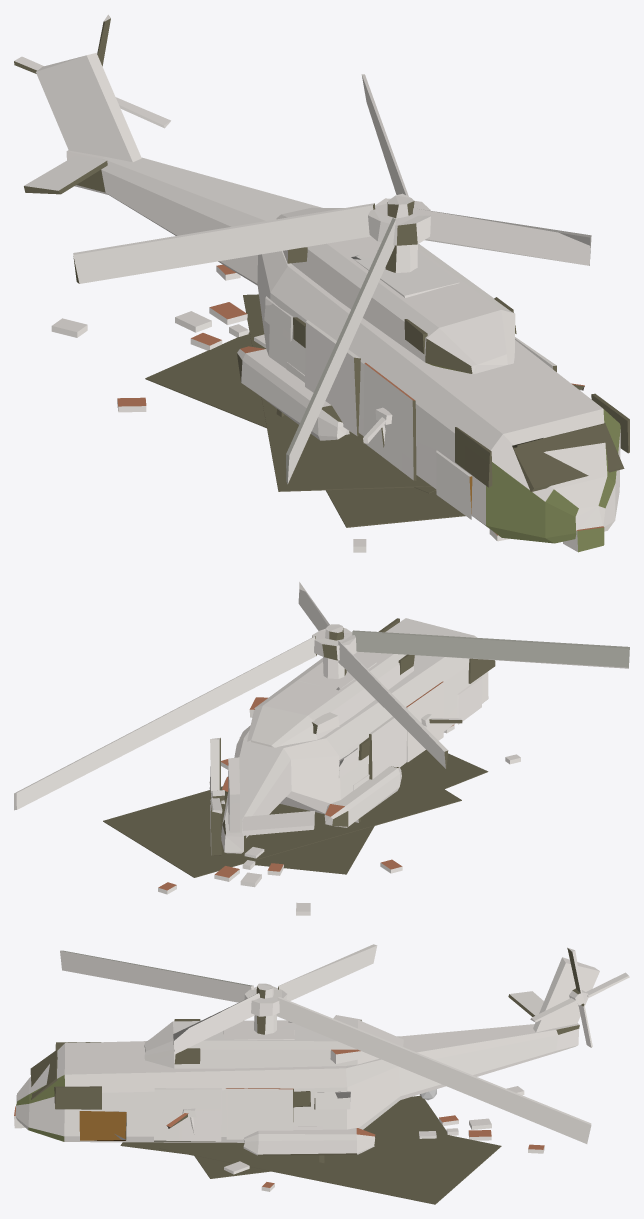
The model's file is SM_RestosNH90_v2_LOD0.fbx.
3 renders of one model, top to bottom at view 1: azimuth 30°, elevation 25°; view 2: azimuth 150°, elevation 25°; view 3: azimuth 270°, elevation 25°, orthographic. The views are drawn at different scales.
Parts seen in each view (by area): view 1: SM_bloques.restos_nh90_v2_LOD0; view 2: SM_bloques.restos_nh90_v2_LOD0; view 3: SM_bloques.restos_nh90_v2_LOD0.
Boxes of the visible parts, <box> form: SM_bloques.restos_nh90_v2_LOD0: <box>14,14,629,552</box>; SM_bloques.restos_nh90_v2_LOD0: <box>14,582,629,915</box>; SM_bloques.restos_nh90_v2_LOD0: <box>14,944,629,1204</box>.
Size of the model in its own units: 10.39 by 5.36 by 17.43.
